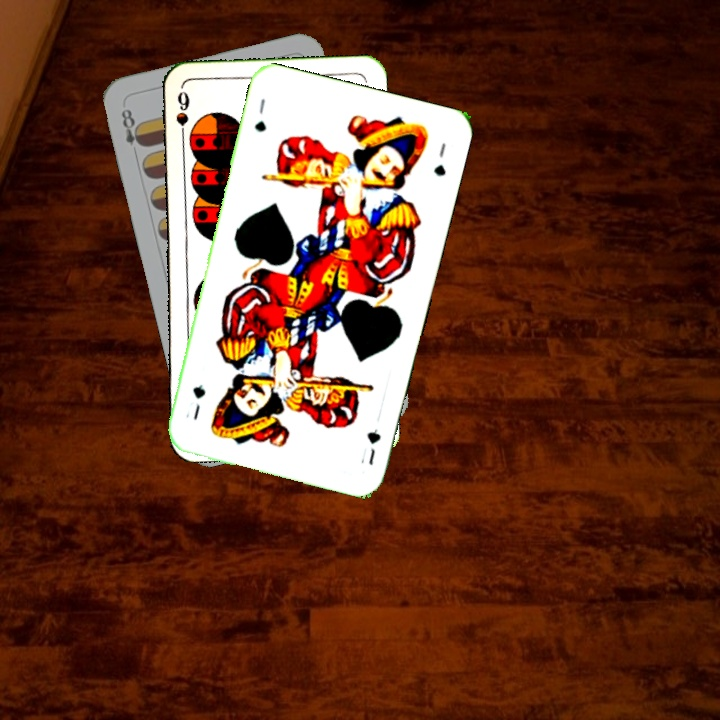E8: (117, 104, 148, 160)
GU: (356, 425, 384, 468), (250, 94, 269, 135)
S9: (171, 87, 192, 146)
